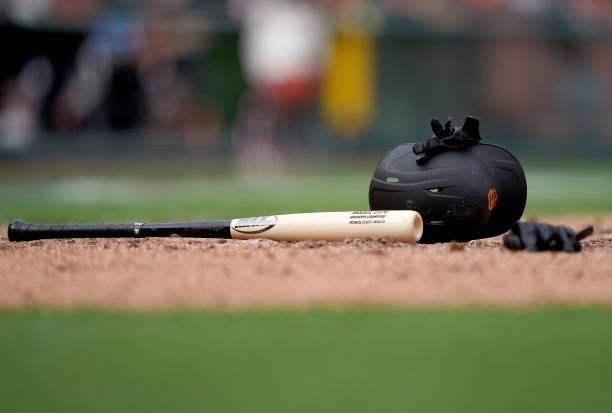bita: (10, 208, 418, 245)
